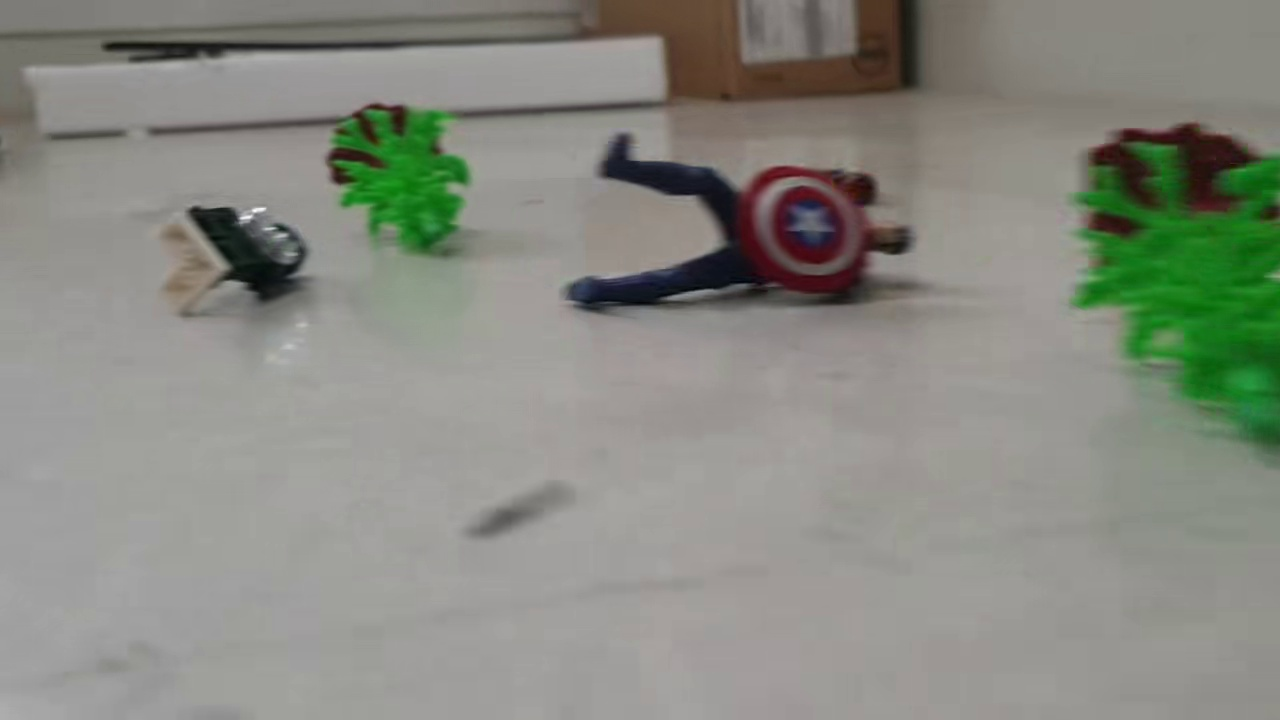people: (558, 128, 916, 312), (153, 201, 313, 318)
tree: (1065, 122, 1280, 469), (323, 99, 474, 255)
